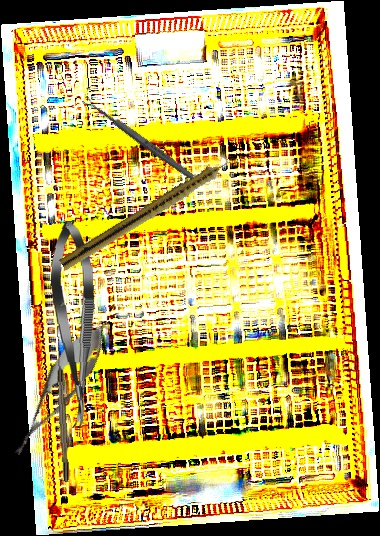Handpiece: (58, 151, 242, 275)
Hook Surgical: (55, 345, 70, 483)
Micro Scissor: (0, 315, 117, 465), (48, 219, 101, 429)
Surgical Spoon: (81, 94, 196, 182)
